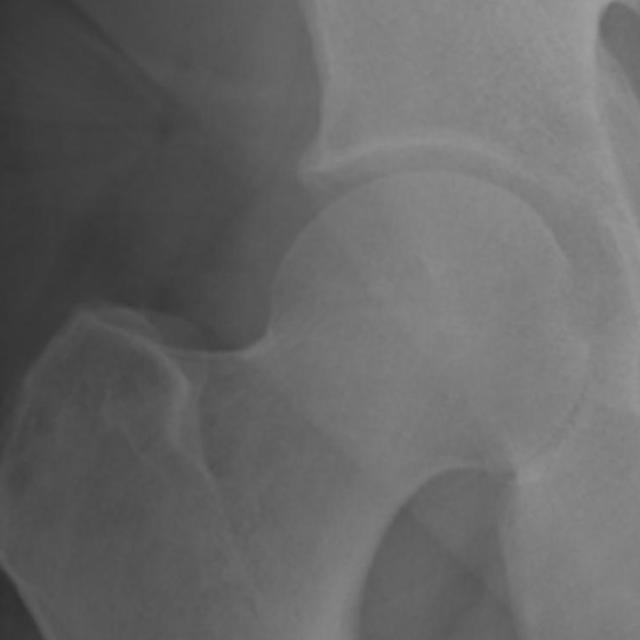Fitted_femural_head: (320, 171, 432, 320)
